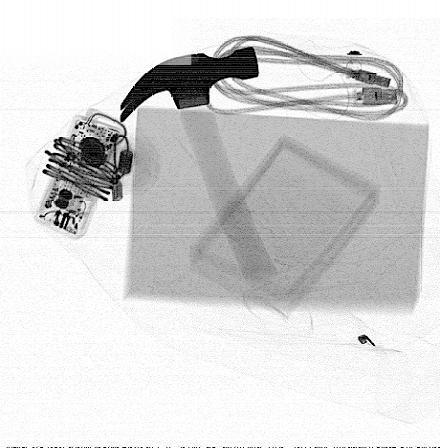Hammer: (118, 45, 279, 280)
